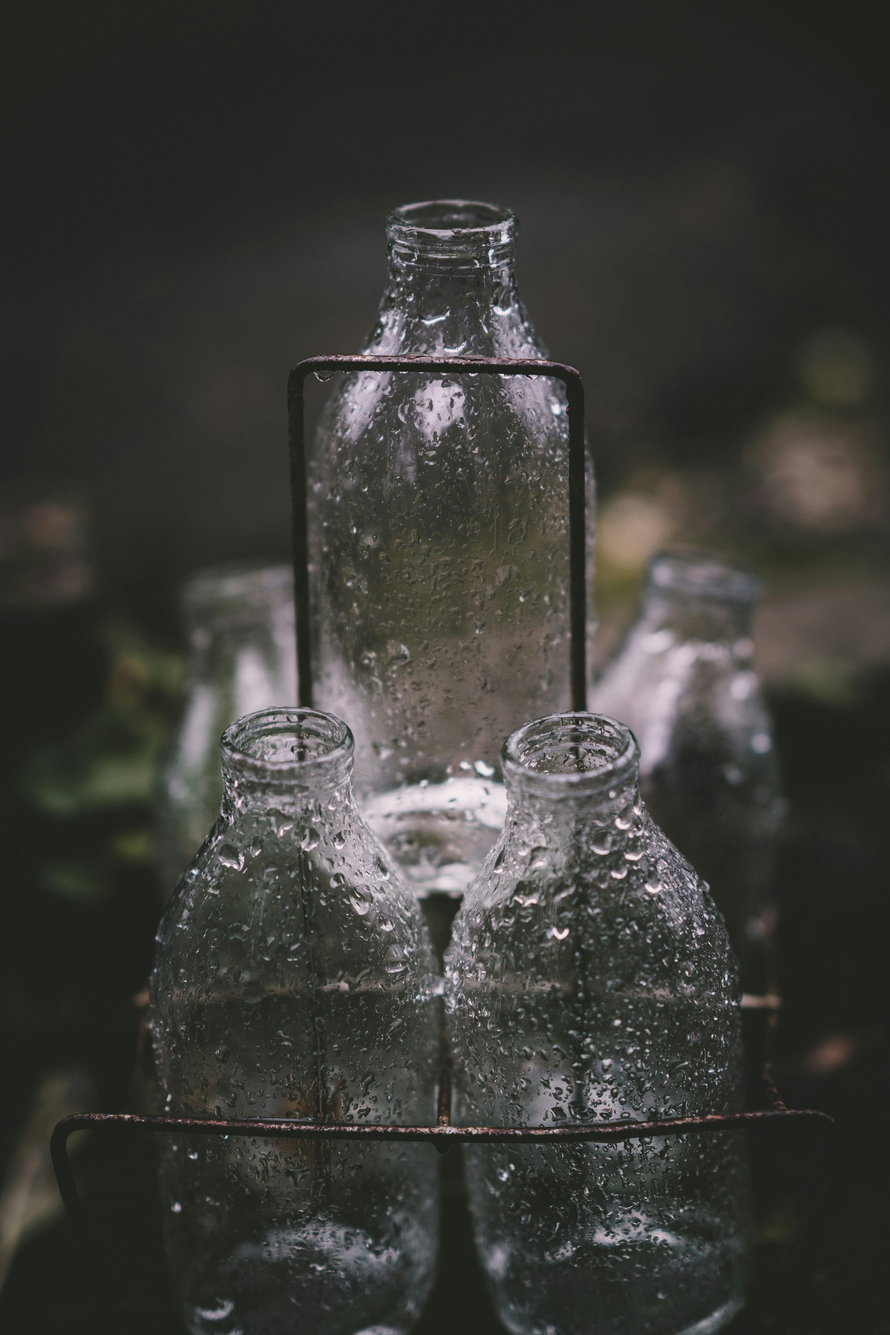Bottle-Detection: (232, 162, 685, 918), (460, 684, 814, 1335), (116, 684, 455, 1335)
